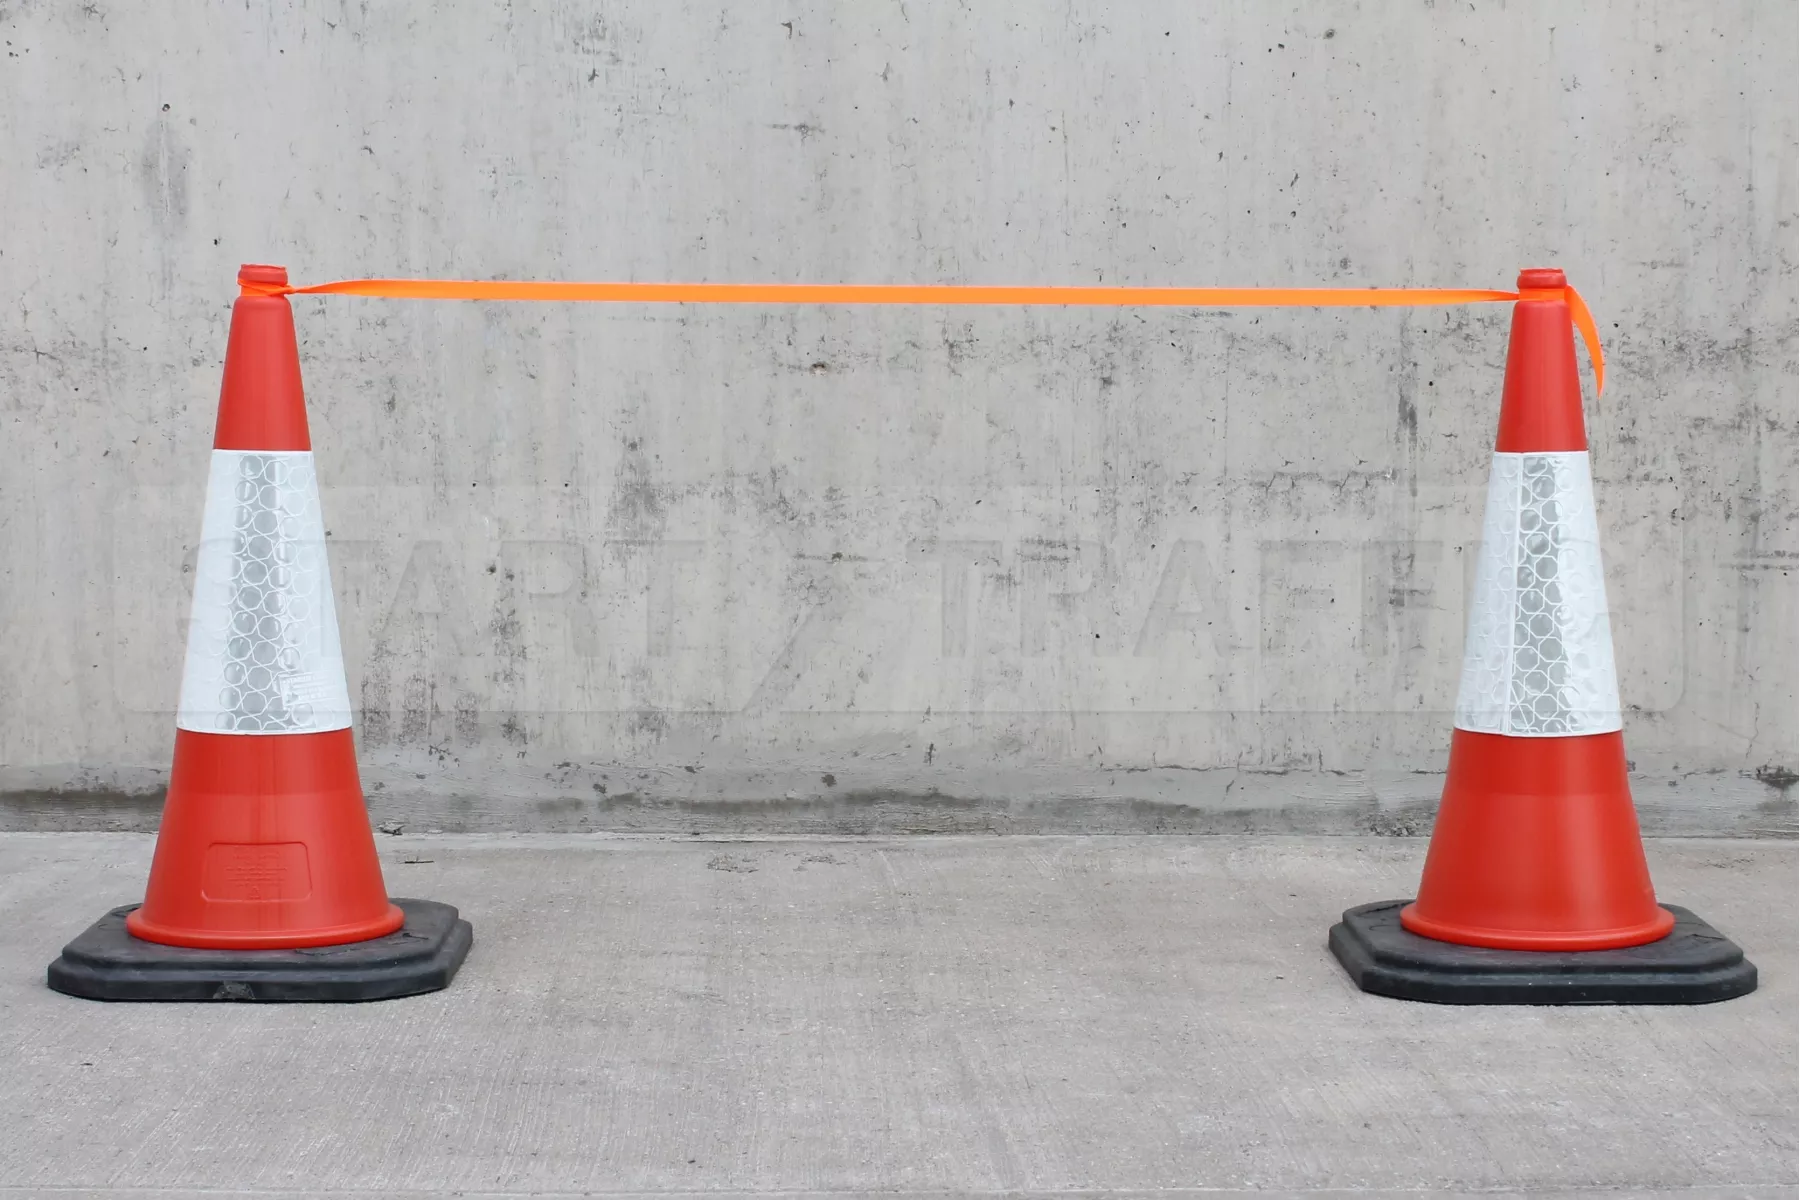cone: (1326, 267, 1757, 1002), (46, 273, 475, 992)
